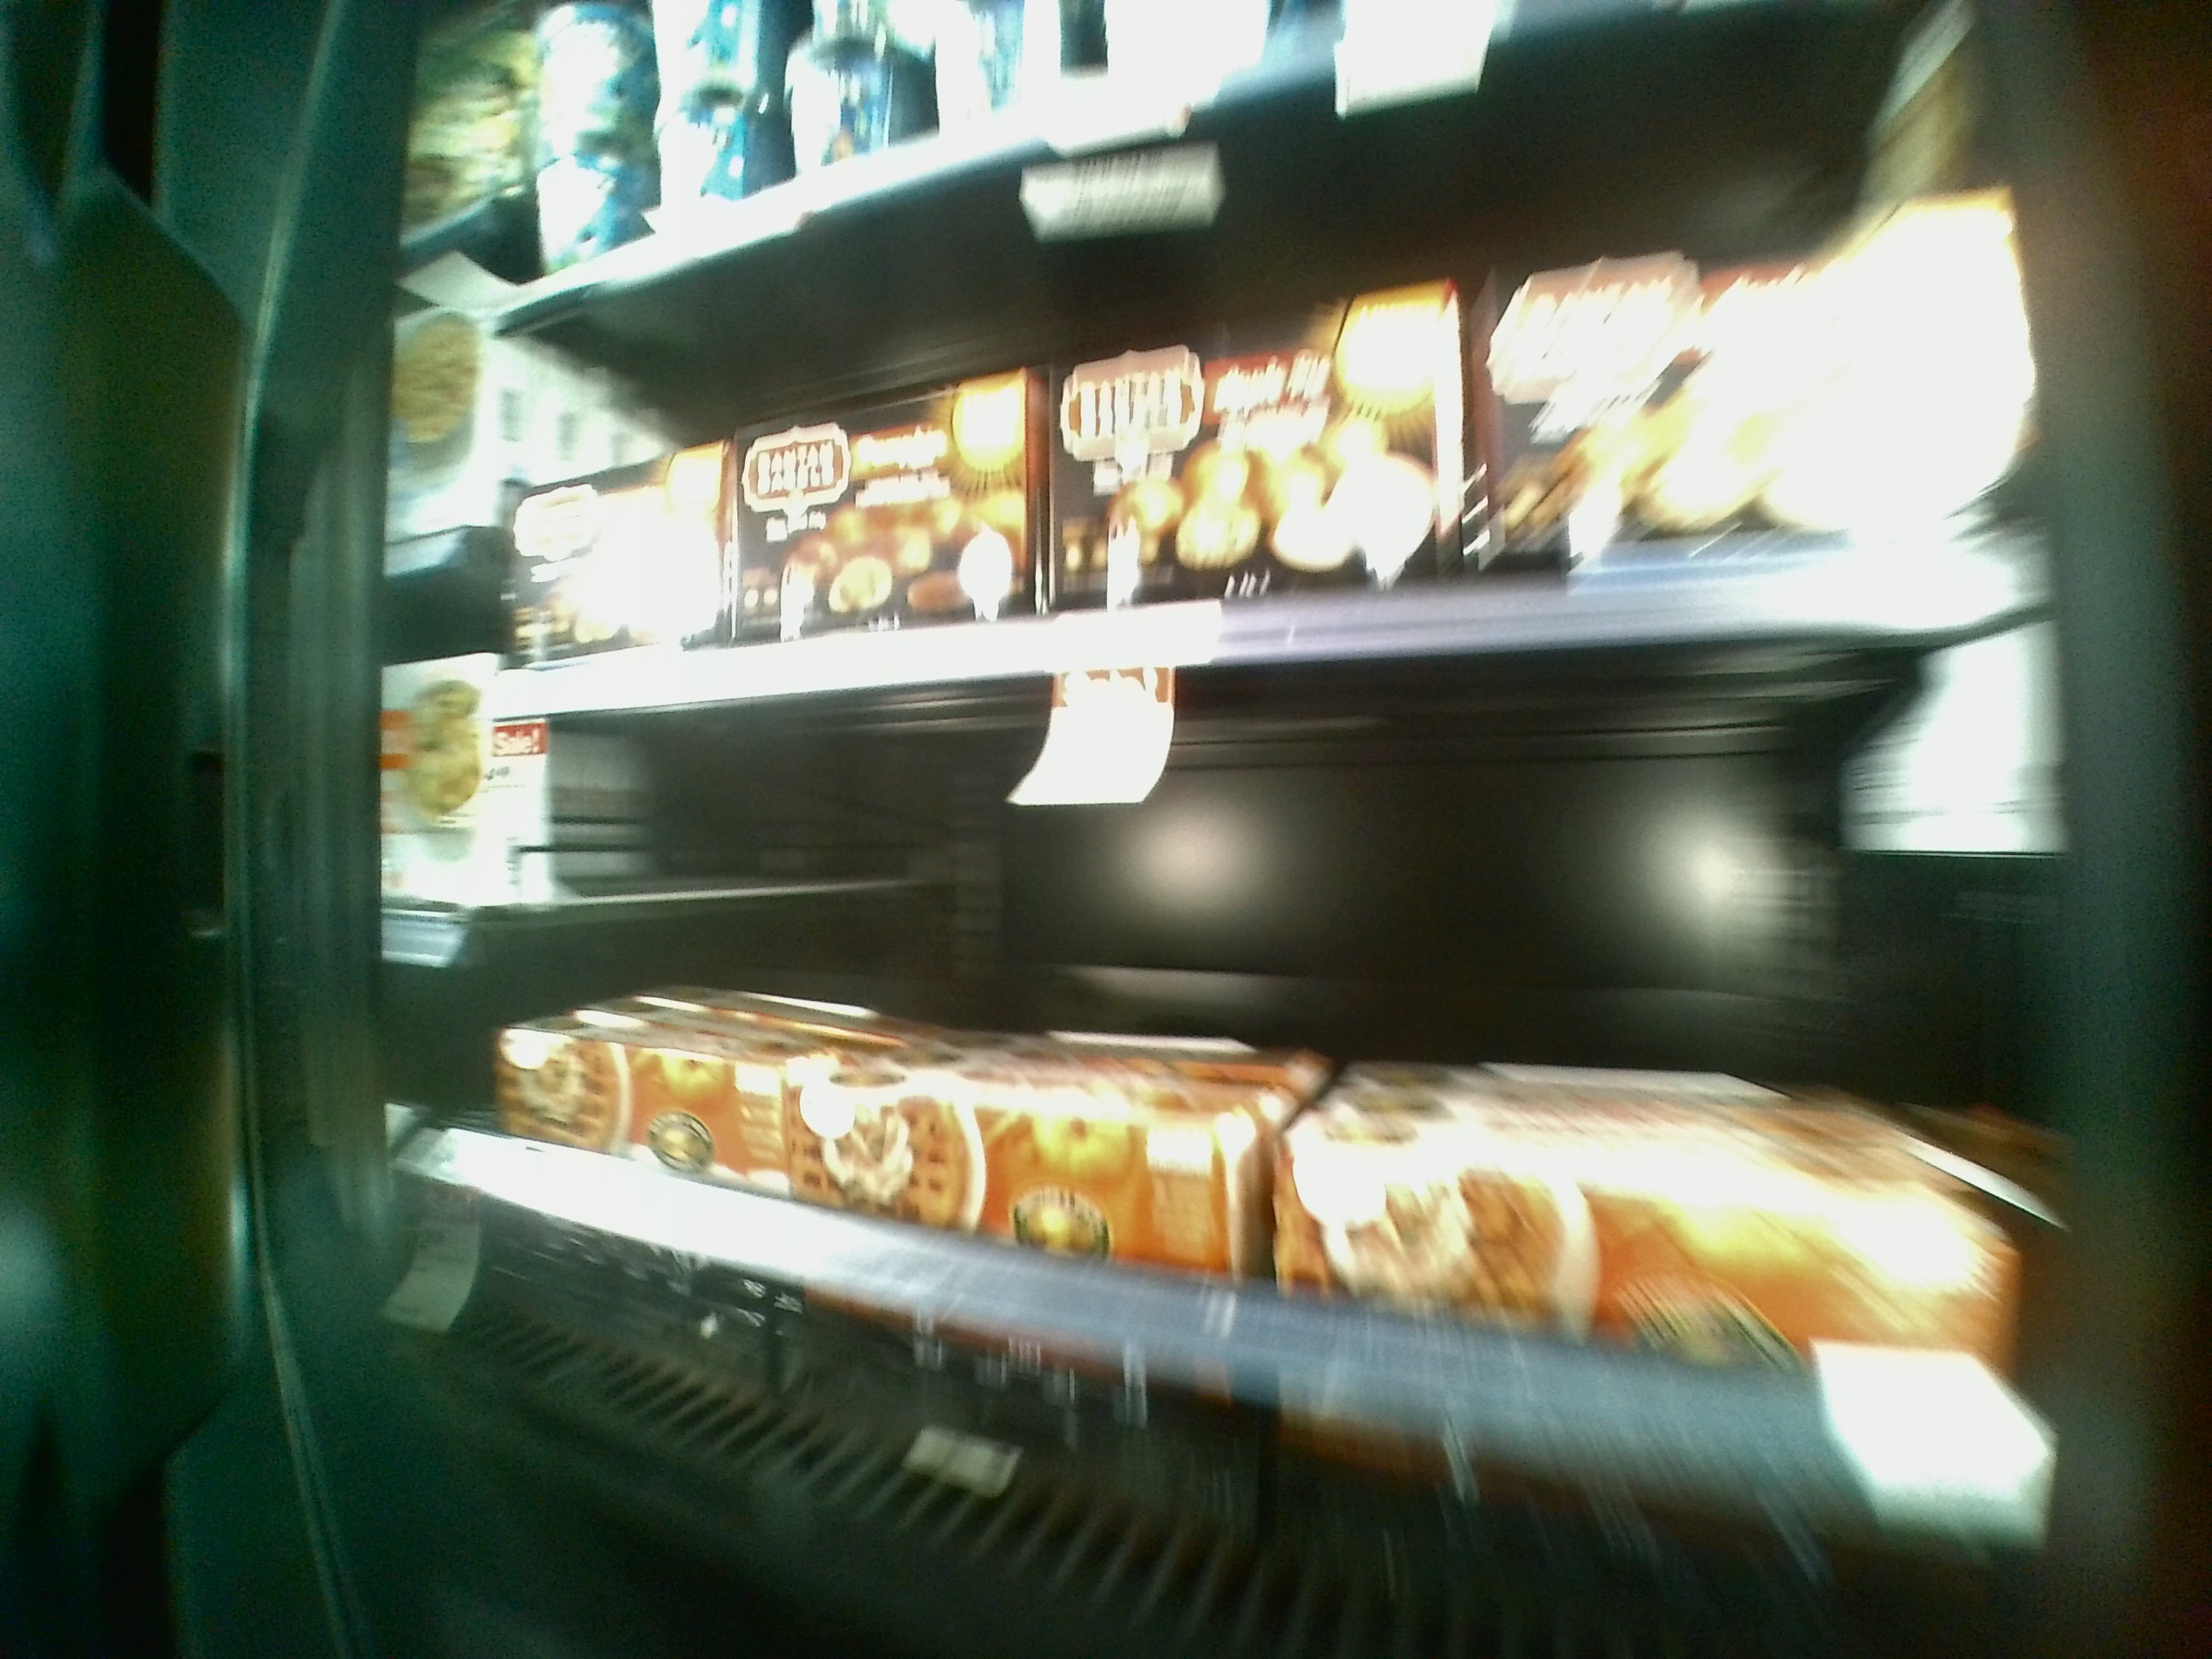shelf: (495, 673, 2040, 1582)
